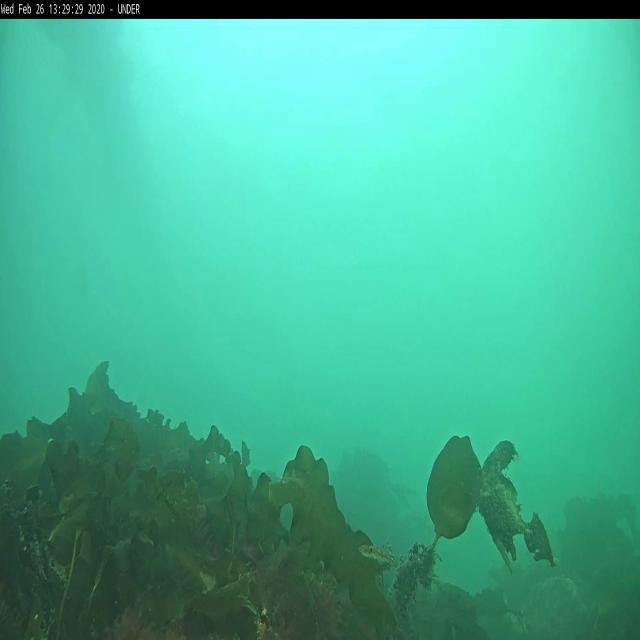fish: (358, 544, 397, 566)
